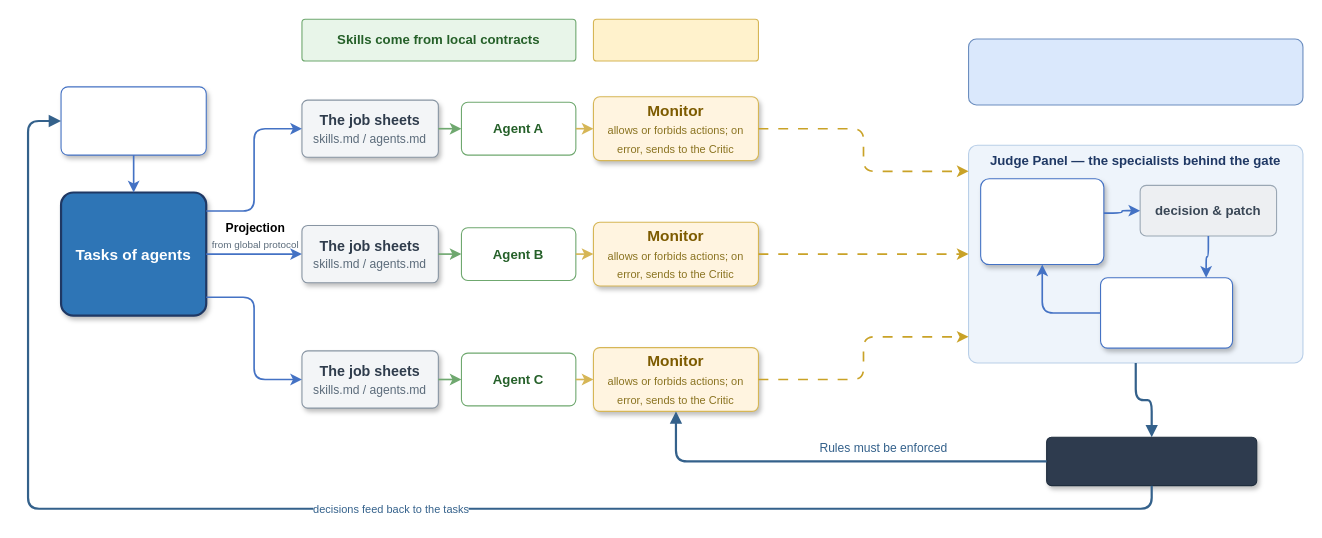
This 1322x538 diagram has some shape labels left out. Each missing label, with the centre of its shape:
"Audit & Compliance Log the full record" belongs at (1152,462).
"Checker (Scribble)" belongs at (134,122).
"Critic Are agents' actions compliant with policies & security?" belongs at (1042,222).
"Critic reports logic bottlenecks, security-boundary weaknesses & redundant steps" belongs at (1135,71).
"Revisor writes the fix" belongs at (1167,314).
"Spec from local contracts" belongs at (675,39).
